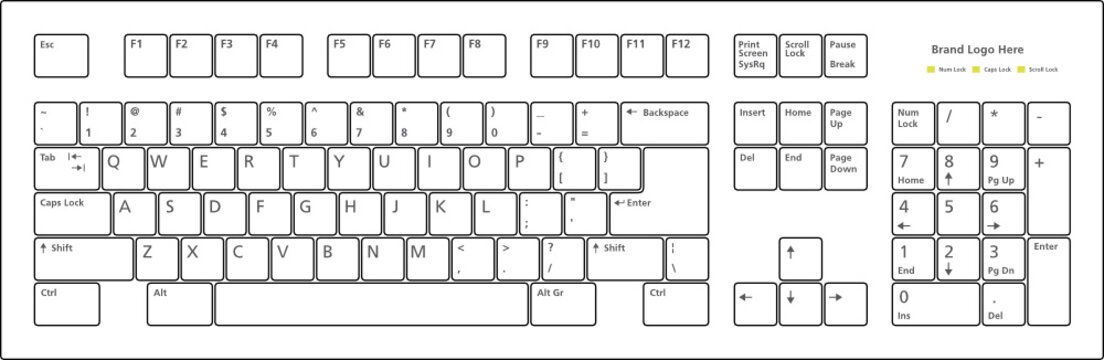keyboard: (11, 8, 1104, 352)
